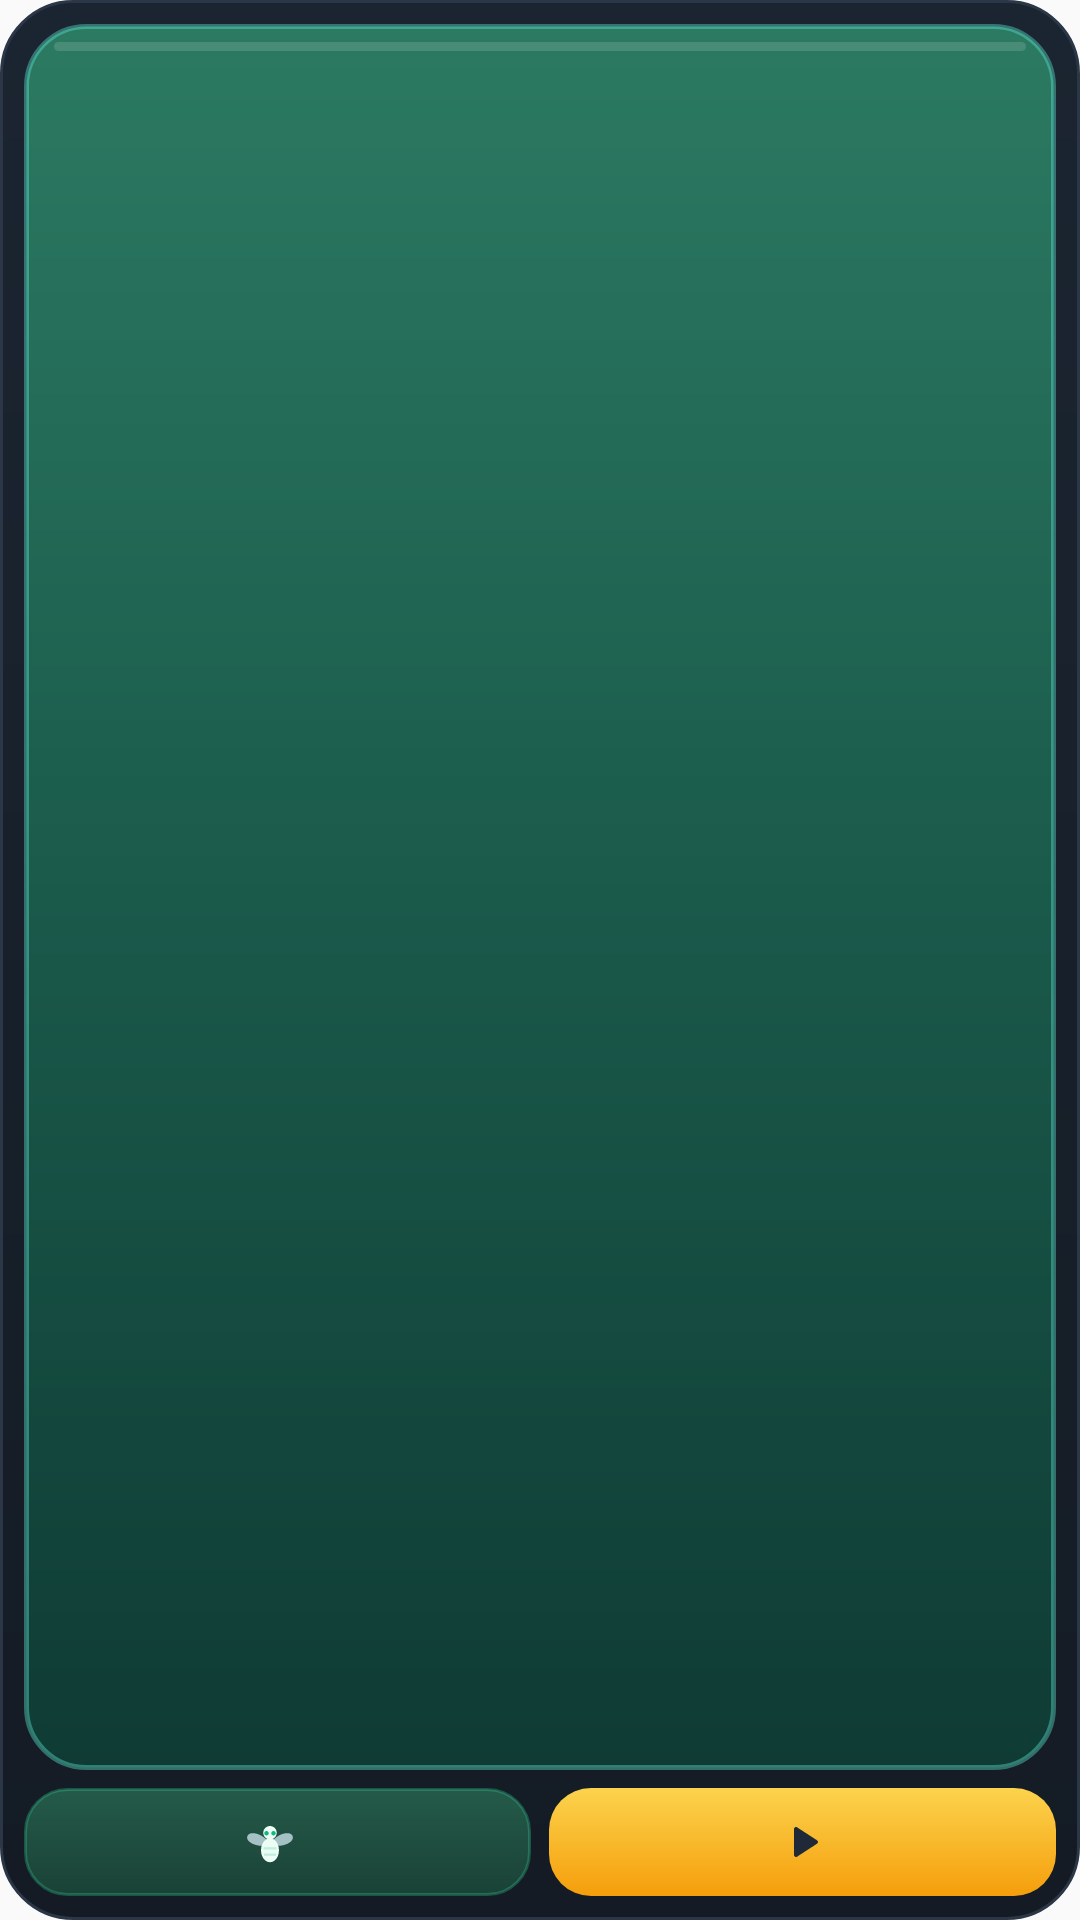

Named icons in this screenshot (1080 × 1920) and their centers, (x,y):
widget fly: (270,1844)
widget play: (802,1846)
